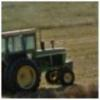tractors: (1, 28, 76, 93)
